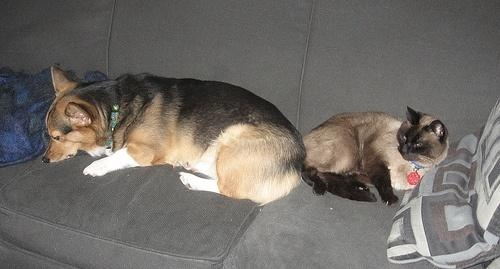cat: (304, 105, 451, 211)
dog: (40, 67, 306, 208)
sofa: (1, 2, 499, 269)
